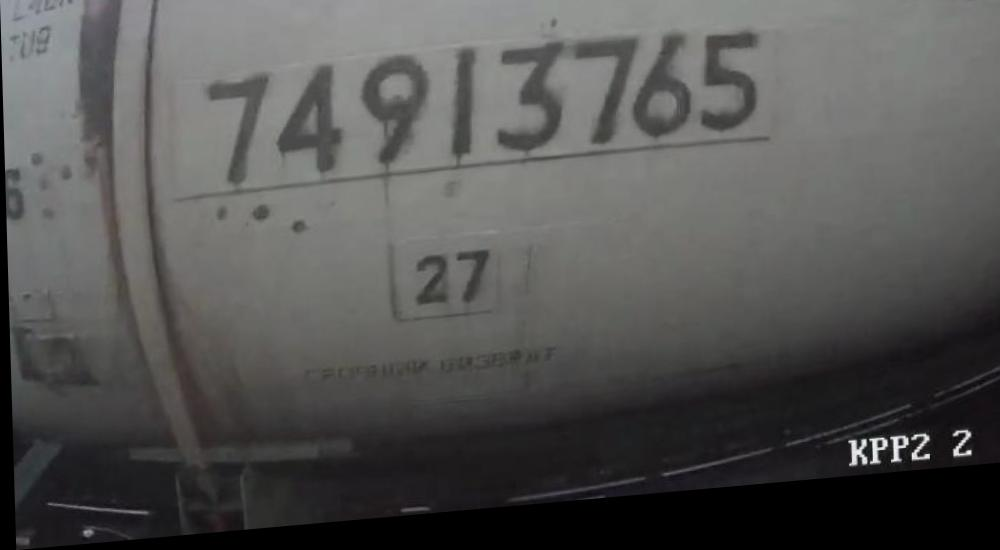Wagon-number: (200, 32, 765, 196)
